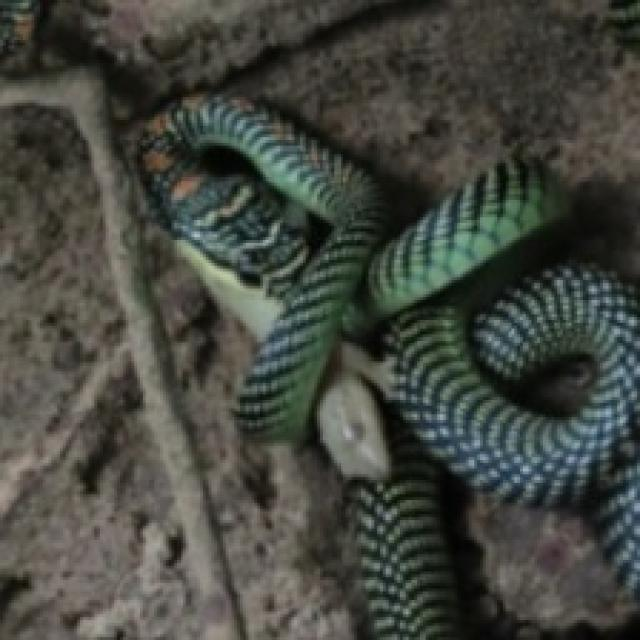paradise tree snake: (140, 97, 637, 637)
